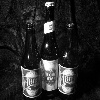beer: (21, 25, 45, 99)
